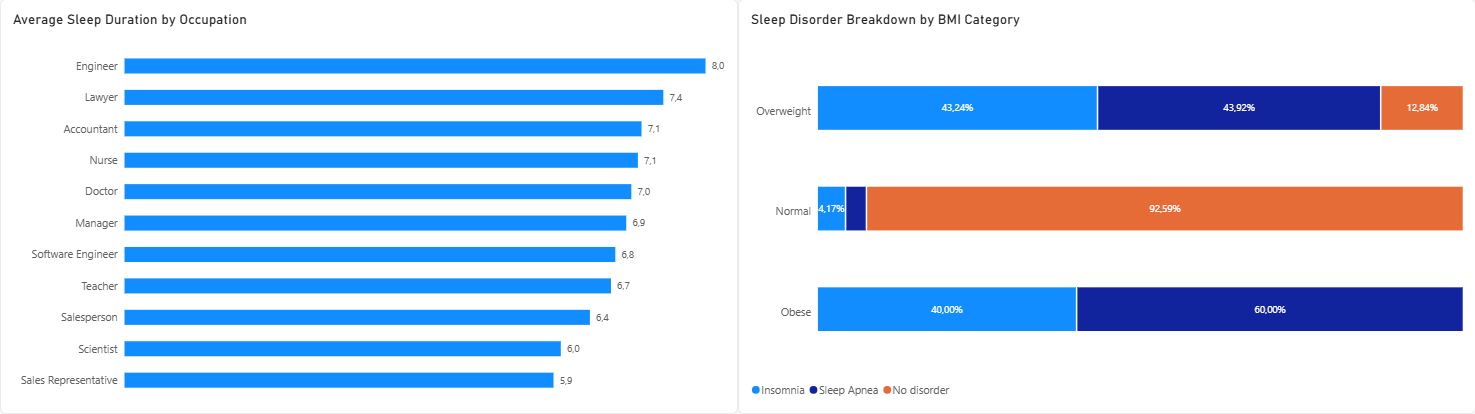

What the dashboard file says about the page in this screenshot:
{"tool":"powerbi","page":{"name":"Strona 1","canvas":[1920,1080],"ordinal":0},"visuals":[{"type":"clusteredBarChart","title":"Average Sleep Duration by Occupation","fields":{"Category":["v_occupation_sleep_summary_202609210929.occupation"],"Y":["Sum(v_occupation_sleep_summary_202609210929.average_sleep_duration)"]},"box":[0,270,960,540],"z":0},{"type":"hundredPercentStackedBarChart","title":"Sleep Disorder Breakdown by BMI Category","fields":{"Category":["v_health_sleep_disorders_summary_202609210928.bmi_category"],"Y":["Sum(v_health_sleep_disorders_summary_202609210928.insomnia_disorder)","Sum(v_health_sleep_disorders_summary_202609210928.sleep_apnea_disorder)","Sum(v_health_sleep_disorders_summary_202609210928.no_disorder)"]},"box":[960,270,960,540],"z":1}]}

Visuals, with their boxes on the page's 1920x1080 design canvas (x1, y1, x2, y2). These are canvas units, not pixel positions in the 1475x414 screenshot, which may show the page scaled, cropped or inside an application window:
"Average Sleep Duration by Occupation" clusteredBarChart: crop(0, 270, 960, 810)
"Sleep Disorder Breakdown by BMI Category" hundredPercentStackedBarChart: crop(960, 270, 1920, 810)
